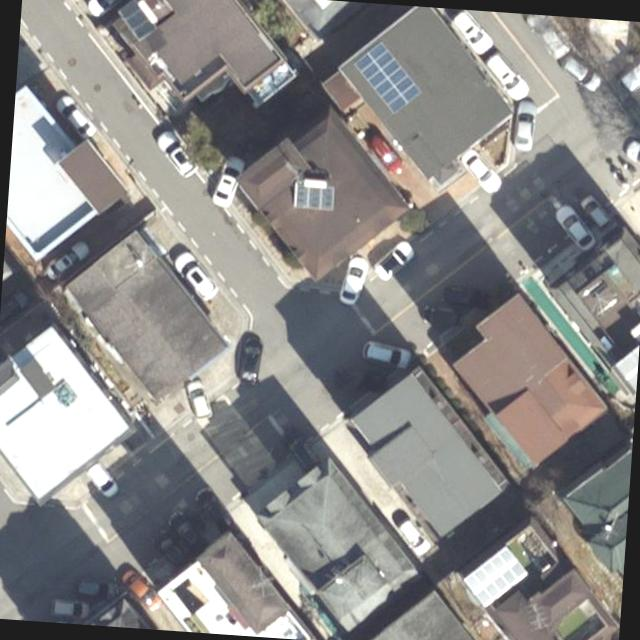solar: (348, 38, 428, 116), (457, 542, 533, 614), (112, 0, 162, 44), (290, 180, 336, 212)
